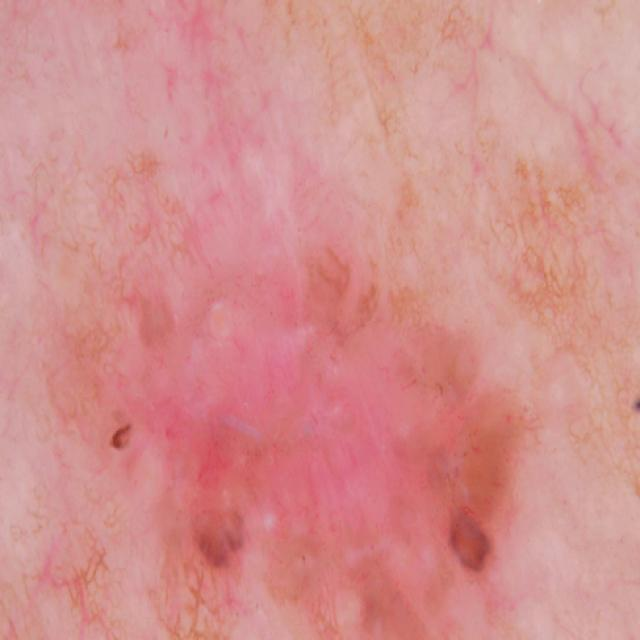Carcinoma: (51, 209, 518, 640)
